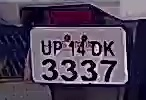1: (67, 39, 75, 57)
3: (40, 57, 59, 81), (61, 58, 79, 81), (81, 60, 97, 82)
4: (77, 41, 88, 57)
7: (97, 57, 118, 83)
D: (91, 40, 102, 56)
K: (102, 38, 117, 59)
P: (52, 37, 62, 56)
U: (40, 38, 52, 57)
